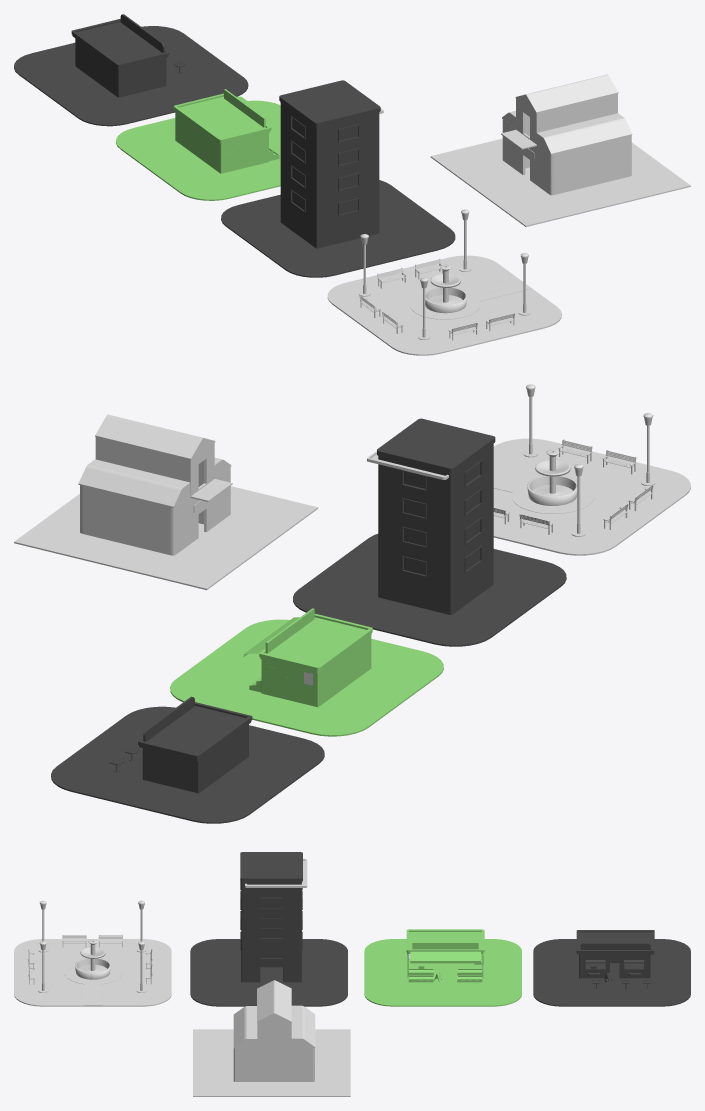
File: ofihito2.fbx
3 views of the same model, one above another, from view 1: azimuth 30°, elevation 25°; view 2: azimuth 150°, elevation 25°; view 3: azimuth 270°, elevation 25° (orthographic). The views are drawn at different scales.
Parts seen in each view (by area): view 1: Cube.008, banco.003, Cube.006, Cube.067, Cube.014, Cube.020, Cube.082, Cube.083; view 2: Cube.008, Cube.006, Cube.067, banco.003, Cube.014, Cube.020, Cube.027, Cube.083; view 3: Cube.008, Cube.067, Cube.006, banco.003, Cube.014, Cube.020, Cube.083, Cube.027, Cube.082.
Part boxes in pixels (left/top/right/bottom): Cube.008: left=221, top=80, right=455, bottom=277; banco.003: left=327, top=209, right=561, bottom=355; Cube.006: left=14, top=14, right=248, bottom=126; Cube.067: left=116, top=89, right=280, bottom=200; Cube.014: left=430, top=138, right=690, bottom=226; Cube.020: left=502, top=93, right=631, bottom=195; Cube.082: left=536, top=113, right=632, bottom=154; Cube.083: left=515, top=74, right=618, bottom=113; Cube.008: left=293, top=418, right=566, bottom=646; Cube.006: left=51, top=696, right=324, bottom=823; Cube.067: left=170, top=608, right=443, bottom=736; banco.003: left=493, top=384, right=690, bottom=555; Cube.014: left=14, top=486, right=318, bottom=590; Cube.020: left=80, top=437, right=230, bottom=555; Cube.027: left=78, top=459, right=190, bottom=507; Cube.083: left=95, top=414, right=215, bottom=459; Cube.008: left=190, top=852, right=347, bottom=1006; Cube.067: left=364, top=929, right=521, bottom=1006; Cube.006: left=533, top=930, right=690, bottom=1006; banco.003: left=14, top=900, right=171, bottom=1006; Cube.014: left=193, top=1029, right=350, bottom=1096; Cube.020: left=233, top=1022, right=314, bottom=1081; Cube.083: left=257, top=980, right=291, bottom=1022; Cube.027: left=291, top=1005, right=315, bottom=1047; Cube.082: left=233, top=1006, right=257, bottom=1048.
Size of the model in its own units: 10247 by 3198 by 18648.
